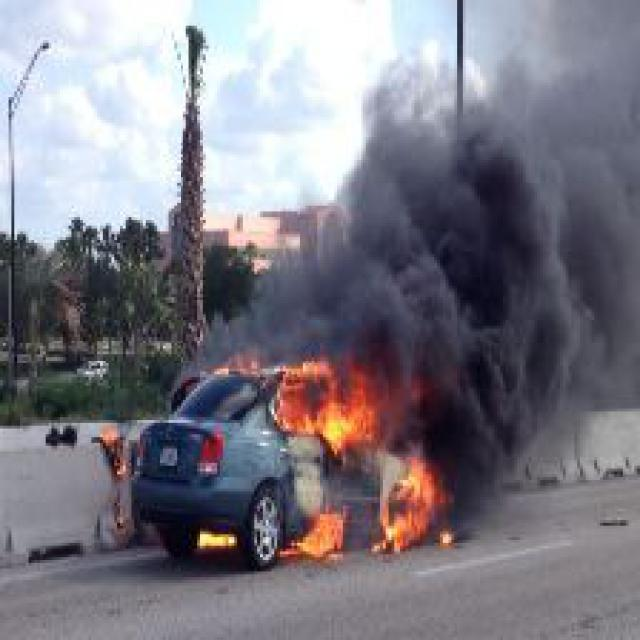fire: (251, 346, 466, 563)
